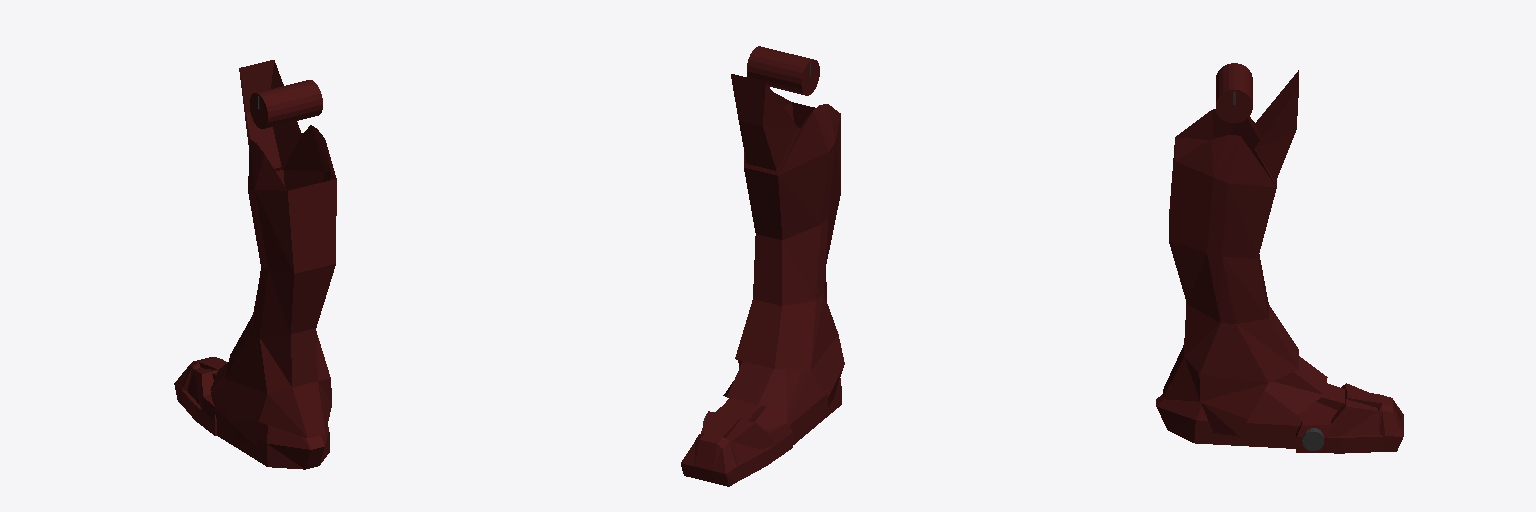
File: RightShin.obj
3 renders of one model, left to right at view 1: azimuth 30°, elevation 25°; view 2: azimuth 150°, elevation 25°; view 3: azimuth 270°, elevation 25°, orthographic.
Parts seen in each view (by area): view 1: Mesh.001_Mesh.001_Mesh.015_polySurface635_polySurface632, Mesh.003_Mesh.003_Mesh.009_polySurface632_polySurface642, Mesh.005_Mesh.005_Mesh.018_polySurface632_polySurface670, Mesh.004_Mesh_Mesh.010_polySurface632_polySurface643; view 2: Mesh.001_Mesh.001_Mesh.015_polySurface635_polySurface632, Mesh.004_Mesh_Mesh.010_polySurface632_polySurface643, Mesh.003_Mesh.003_Mesh.009_polySurface632_polySurface642, Mesh.005_Mesh.005_Mesh.018_polySurface632_polySurface670, Mesh_Mesh.004_Mesh.012_polySurface632_polySurface641; view 3: Mesh.001_Mesh.001_Mesh.015_polySurface635_polySurface632, Mesh.003_Mesh.003_Mesh.009_polySurface632_polySurface642, Mesh.004_Mesh_Mesh.010_polySurface632_polySurface643, Mesh.005_Mesh.005_Mesh.018_polySurface632_polySurface670, Mesh_Mesh.004_Mesh.012_polySurface632_polySurface641.
Boxes of the visible parts, x1,y1,x2,y2 form: Mesh.001_Mesh.001_Mesh.015_polySurface635_polySurface632: [225, 60, 336, 446]; Mesh.003_Mesh.003_Mesh.009_polySurface632_polySurface642: [211, 373, 329, 469]; Mesh.005_Mesh.005_Mesh.018_polySurface632_polySurface670: [250, 80, 322, 128]; Mesh.004_Mesh_Mesh.010_polySurface632_polySurface643: [174, 357, 227, 435]; Mesh.001_Mesh.001_Mesh.015_polySurface635_polySurface632: [731, 74, 844, 409]; Mesh.004_Mesh_Mesh.010_polySurface632_polySurface643: [681, 407, 792, 486]; Mesh.003_Mesh.003_Mesh.009_polySurface632_polySurface642: [718, 370, 841, 444]; Mesh.005_Mesh.005_Mesh.018_polySurface632_polySurface670: [747, 46, 819, 95]; Mesh_Mesh.004_Mesh.012_polySurface632_polySurface641: [723, 361, 801, 410]; Mesh.001_Mesh.001_Mesh.015_polySurface635_polySurface632: [1163, 70, 1298, 436]; Mesh.003_Mesh.003_Mesh.009_polySurface632_polySurface642: [1156, 383, 1344, 448]; Mesh.004_Mesh_Mesh.010_polySurface632_polySurface643: [1296, 383, 1403, 453]; Mesh.005_Mesh.005_Mesh.018_polySurface632_polySurface670: [1216, 63, 1252, 123]; Mesh_Mesh.004_Mesh.012_polySurface632_polySurface641: [1265, 356, 1327, 414].
Size of the model in its own units: 7.63 by 30.13 by 18.44.